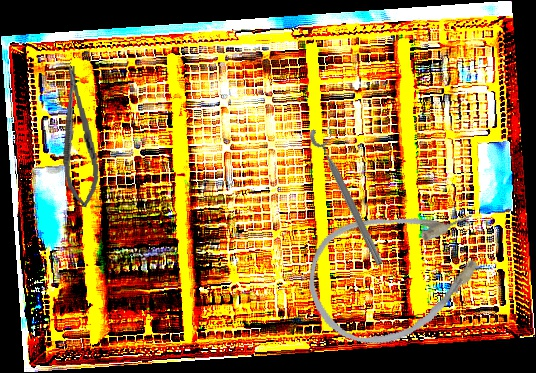Cannula: (292, 182, 505, 363)
Fixation Ring: (306, 121, 395, 269)
Needle Holder: (54, 64, 103, 209)
